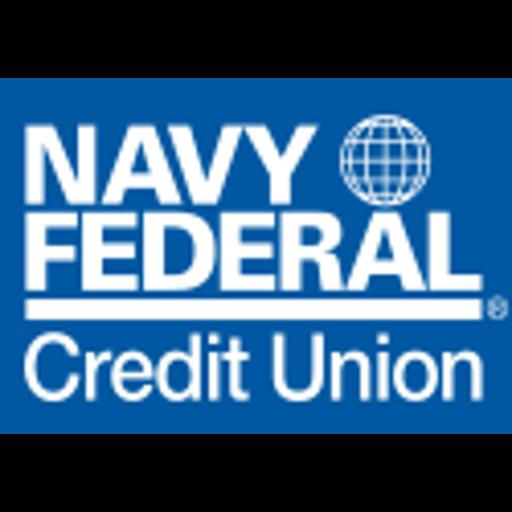Navy Federal Credit Union: (0, 78, 512, 434)
